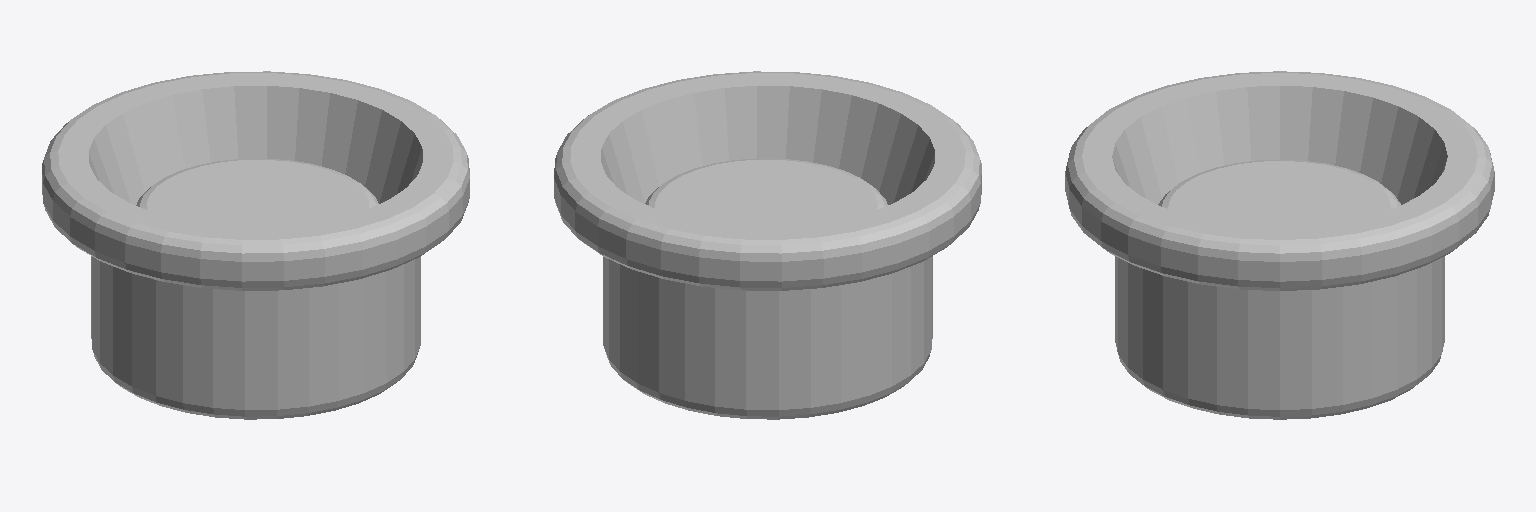
The picture shows the model from 3 angles: view 1: azimuth 30°, elevation 25°; view 2: azimuth 150°, elevation 25°; view 3: azimuth 270°, elevation 25°; orthographic projection.
Parts seen in each view (by area): view 1: Score1_Cylinder.005; view 2: Score1_Cylinder.005; view 3: Score1_Cylinder.005.
Part boxes in pixels (bbox=[...]): Score1_Cylinder.005: bbox=[42, 71, 469, 419]; Score1_Cylinder.005: bbox=[554, 71, 981, 419]; Score1_Cylinder.005: bbox=[1065, 71, 1494, 419].
Size of the model in its own units: 0.7531 by 0.3853 by 0.7531.